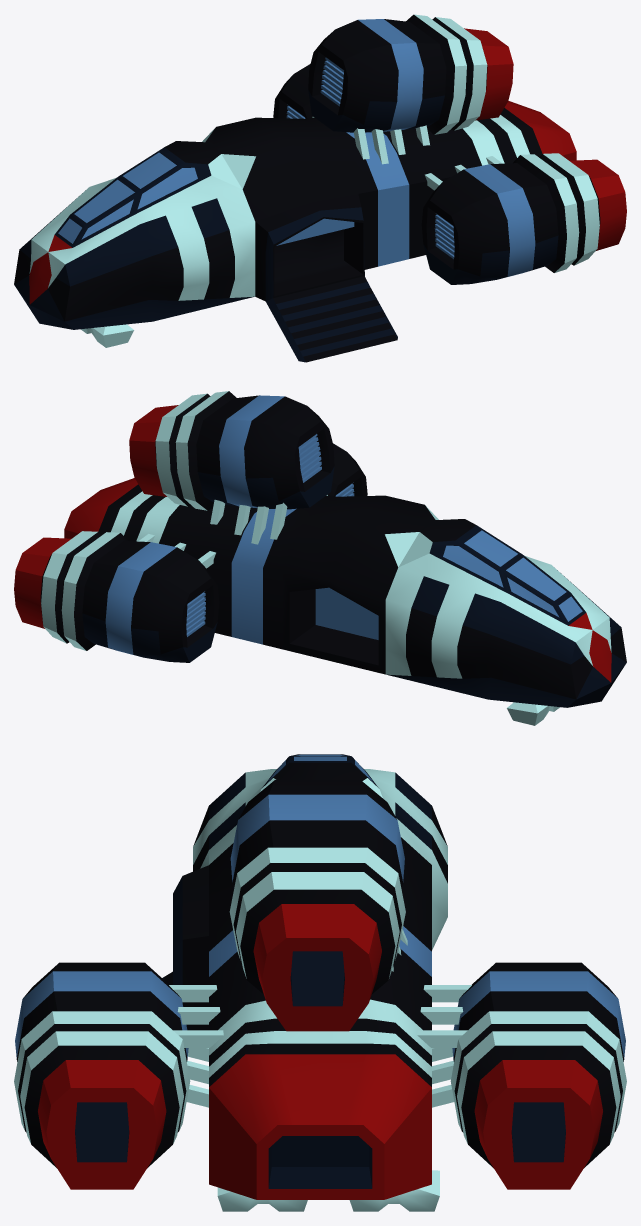
The model's file is SpaceShip.FBX.
The picture shows the model from 3 angles, top to bottom: view 1: azimuth 30°, elevation 25°; view 2: azimuth 150°, elevation 25°; view 3: azimuth 270°, elevation 25°; orthographic projection. The views are drawn at different scales.
Visible parts, largest first — view 1: Spaceship; view 2: Spaceship; view 3: Spaceship.
Part boxes in pixels (left/top/right/bottom): Spaceship: left=14, top=14, right=626, bottom=362; Spaceship: left=14, top=391, right=626, bottom=725; Spaceship: left=14, top=754, right=626, bottom=1211.
Bounding box in the file's own units: 1412 × 611 × 969.
